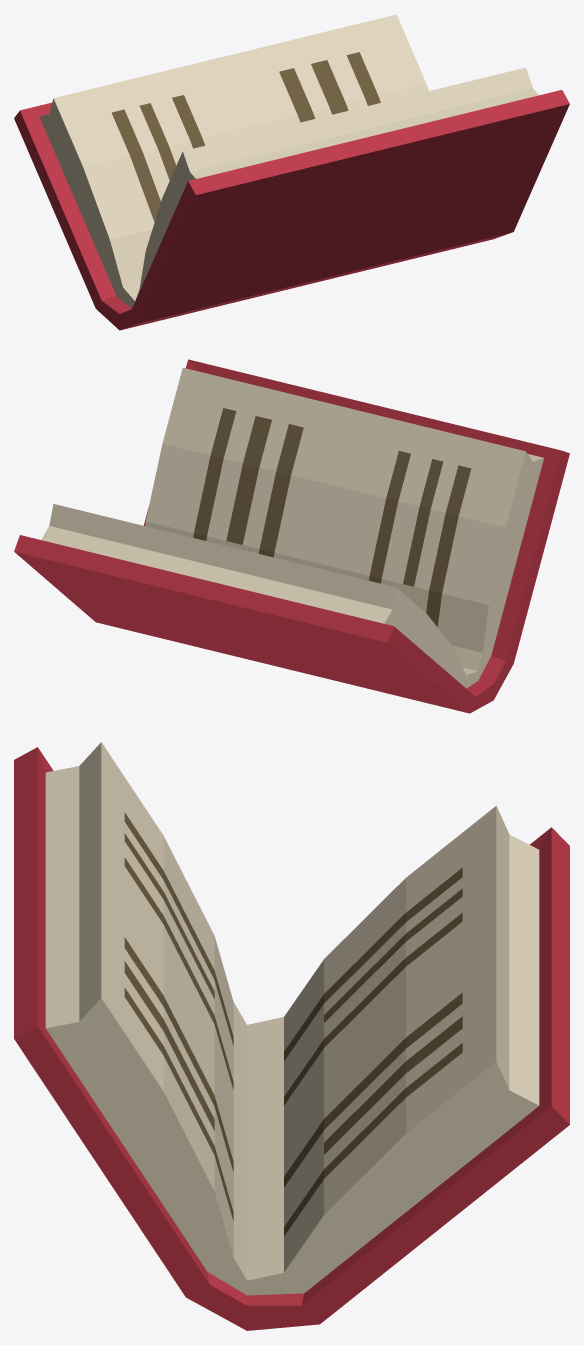
Rendered from Crypt_Book3.glb.
3 views of the same model, one above another, from view 1: azimuth 30°, elevation 25°; view 2: azimuth 150°, elevation 25°; view 3: azimuth 270°, elevation 25° (orthographic). The views are drawn at different scales.
Visible parts, largest first — view 1: Book3; view 2: Book3; view 3: Book3.
Boxes of the visible parts, left/top/right/bottom form: Book3: left=14, top=14, right=569, bottom=330; Book3: left=14, top=359, right=569, bottom=713; Book3: left=14, top=742, right=569, bottom=1330.
Size of the model in its own units: 1.19 by 0.6418 by 1.01.
